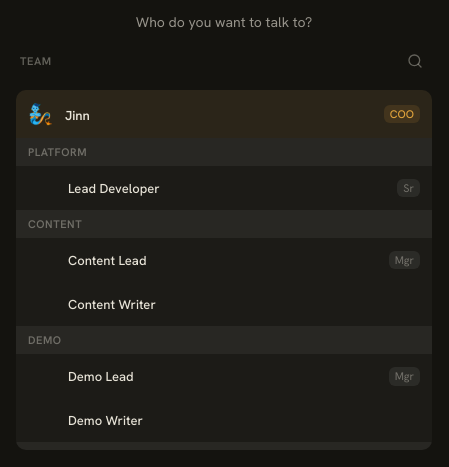
it: ChatEmployeePicker › collapses the search field back to the clean list on Escape
The image size is (449, 467).
Click the button named "search employees" at (415, 61), box left=398, top=44, right=432, bottom=78
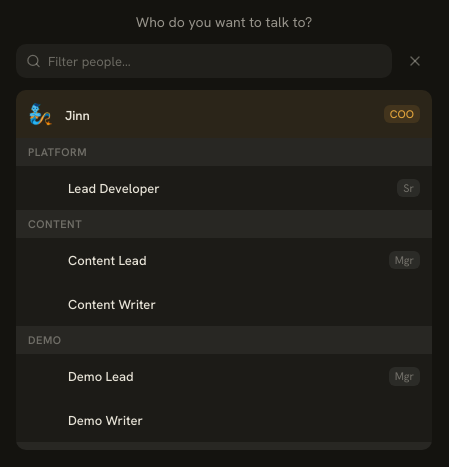
Type "demo" into the field with placeholder "Filter people…" at (204, 61), box left=16, top=44, right=392, bottom=78
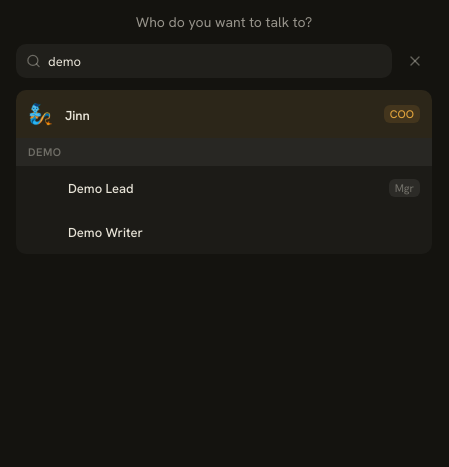
Press Escape in the field with placeholder "Filter people…", box left=16, top=44, right=392, bottom=78
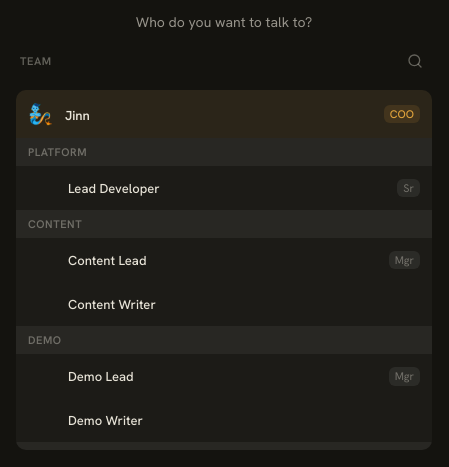
Expected: the button named "search employees" is shown, left=398, top=44, right=432, bottom=78
Expected: the text "Lead Developer" is shown, left=68, top=180, right=160, bottom=197
